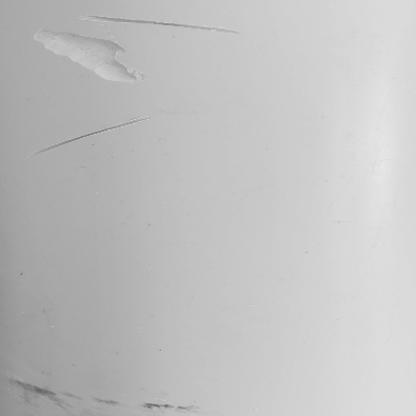sunshang: (31, 32, 149, 83), (35, 118, 150, 160), (79, 9, 241, 37)
